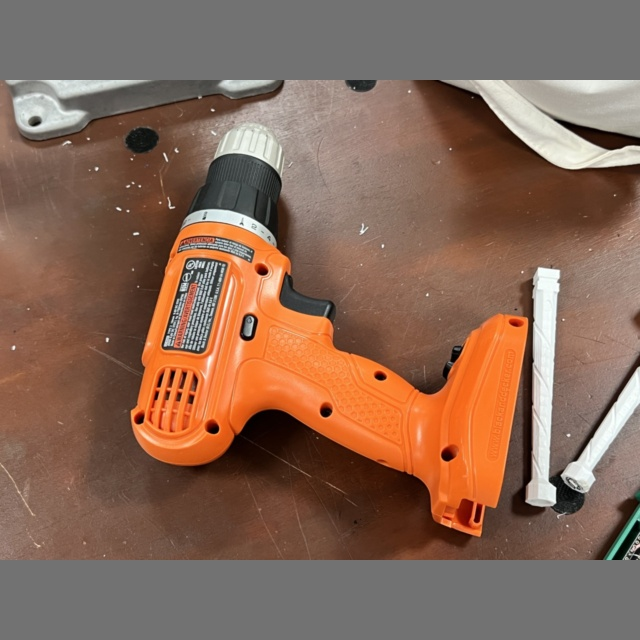drill: (131, 123, 527, 536)
